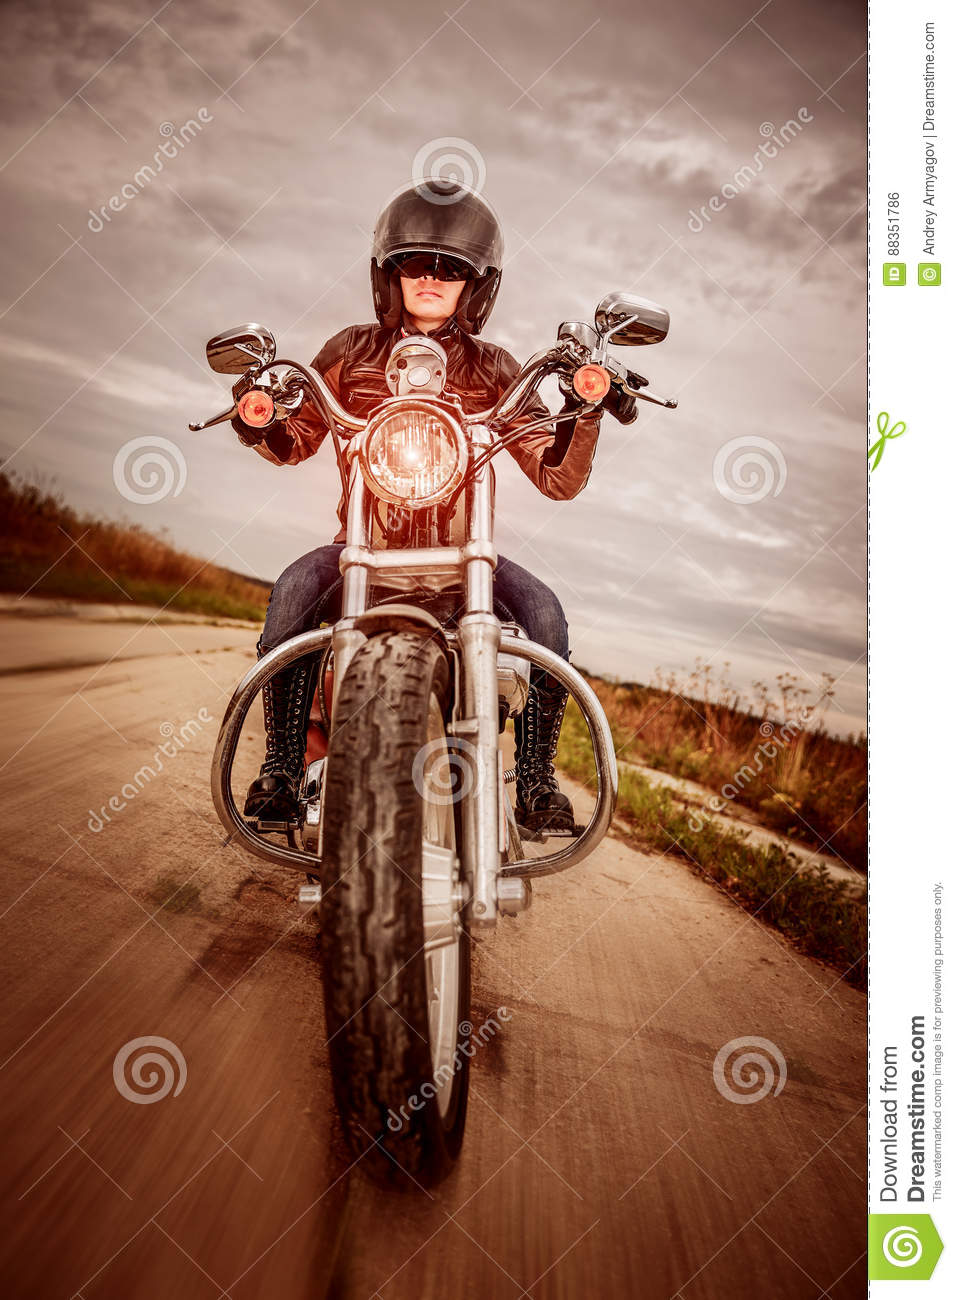helmet: (362, 187, 506, 333)
